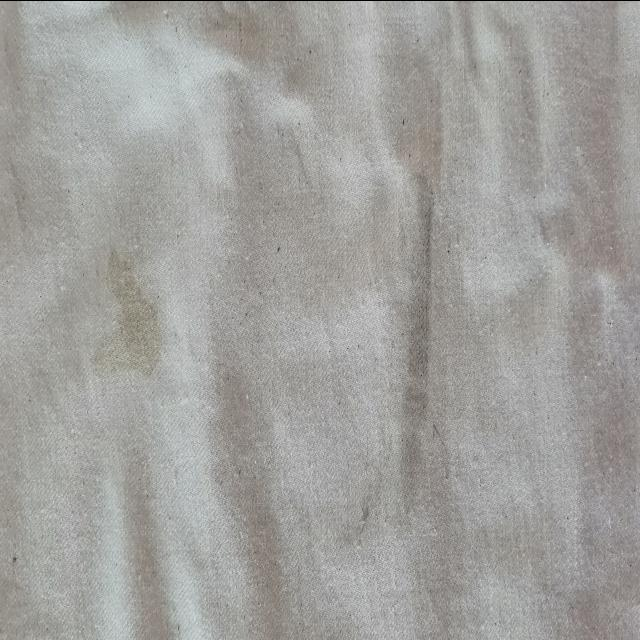taaaches: (388, 120, 453, 495), (86, 232, 176, 409), (600, 618, 638, 640)
